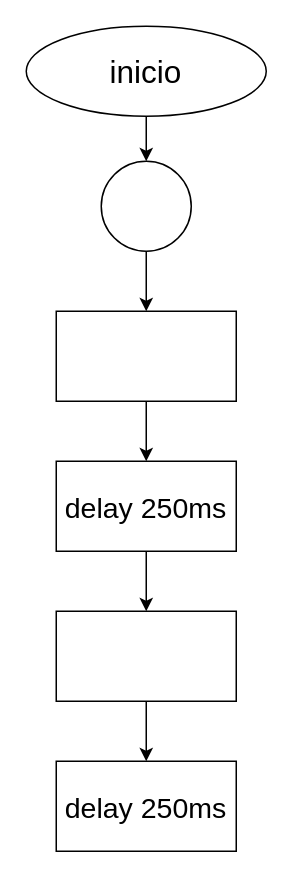
Some shapes in this 293 by 878 pixel diagram are drawn without their labels. Each missing label, with the box of its shape:
Desliga led 1: (55, 610, 236, 701)
liga led 1: (55, 310, 236, 401)
